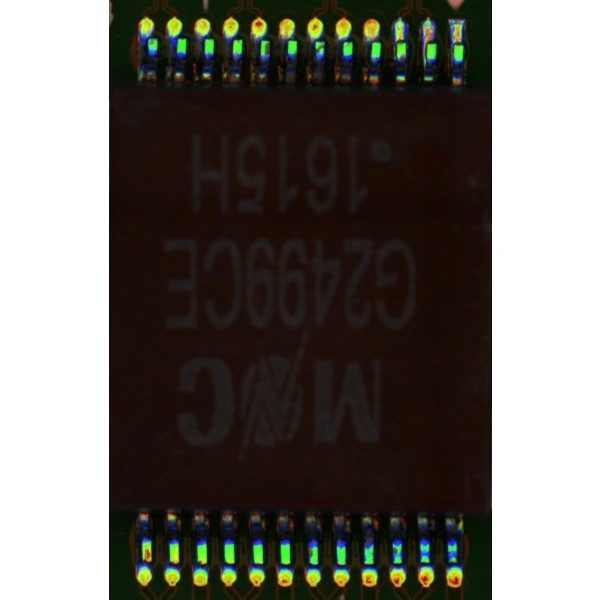Bad_podu: (453, 36, 460, 51), (396, 34, 403, 48)
Bad_qiaojiao: (421, 42, 425, 68)
